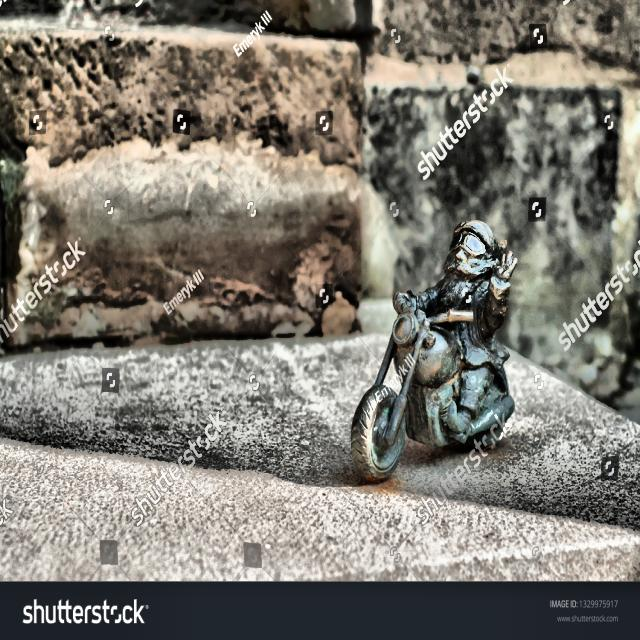Wentyl: (351, 221, 516, 482)
